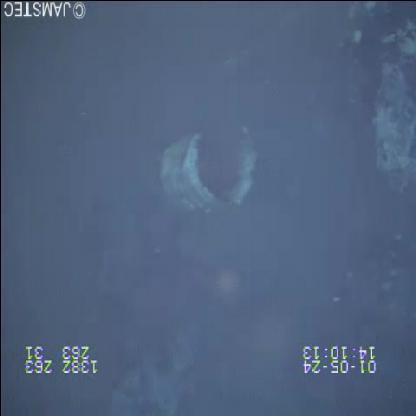Rác: (154, 118, 260, 216)
